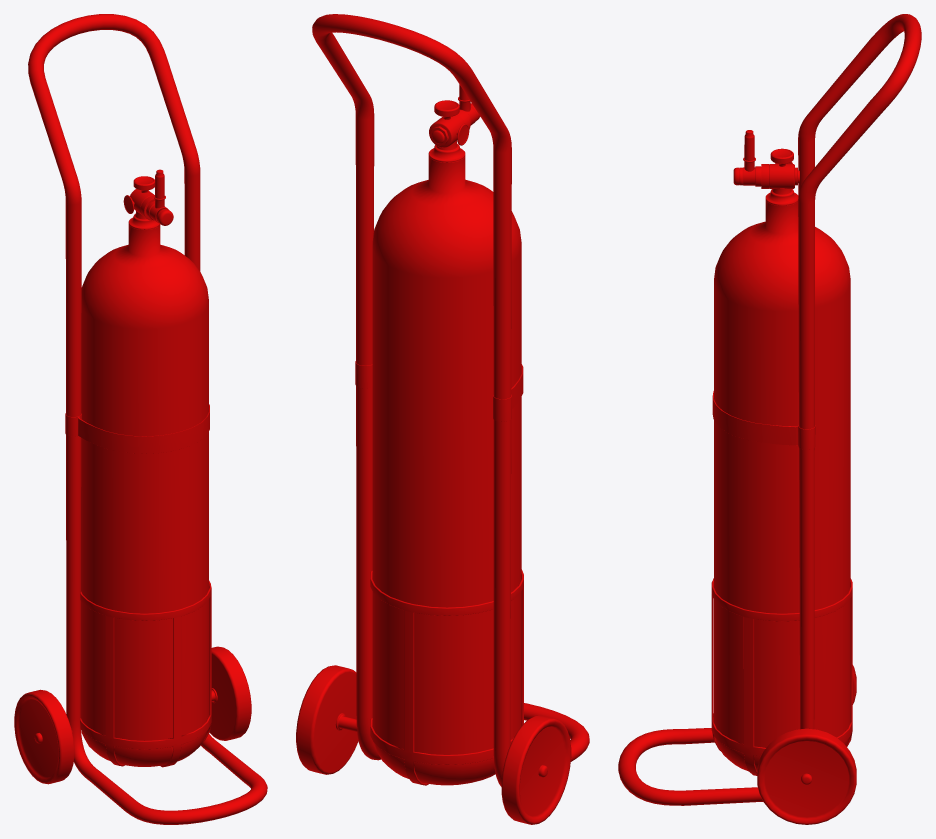
File: Equipment_36.fbx
3 views of the same model, side by side, from view 1: azimuth 30°, elevation 25°; view 2: azimuth 150°, elevation 25°; view 3: azimuth 270°, elevation 25° (orthographic). The views are drawn at different scales.
Parts seen in each view (by area): view 1: L20:polySurface27; view 2: L20:polySurface27; view 3: L20:polySurface27.
Boxes of the visible parts, x1,y1,x2,y2 form: L20:polySurface27: (14, 14, 267, 824); L20:polySurface27: (296, 14, 589, 824); L20:polySurface27: (618, 14, 921, 824).
Bounding box in the file's own units: 43.09 × 150 × 55.
